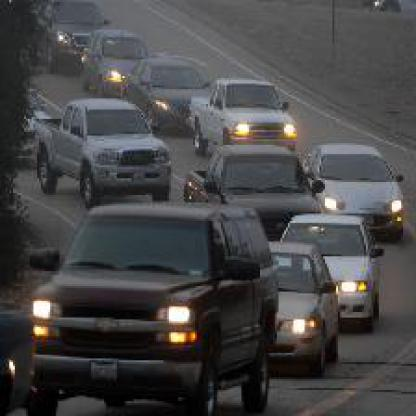not_emergency: (30, 204, 290, 414), (34, 102, 174, 199), (303, 141, 414, 234), (182, 76, 308, 147)
